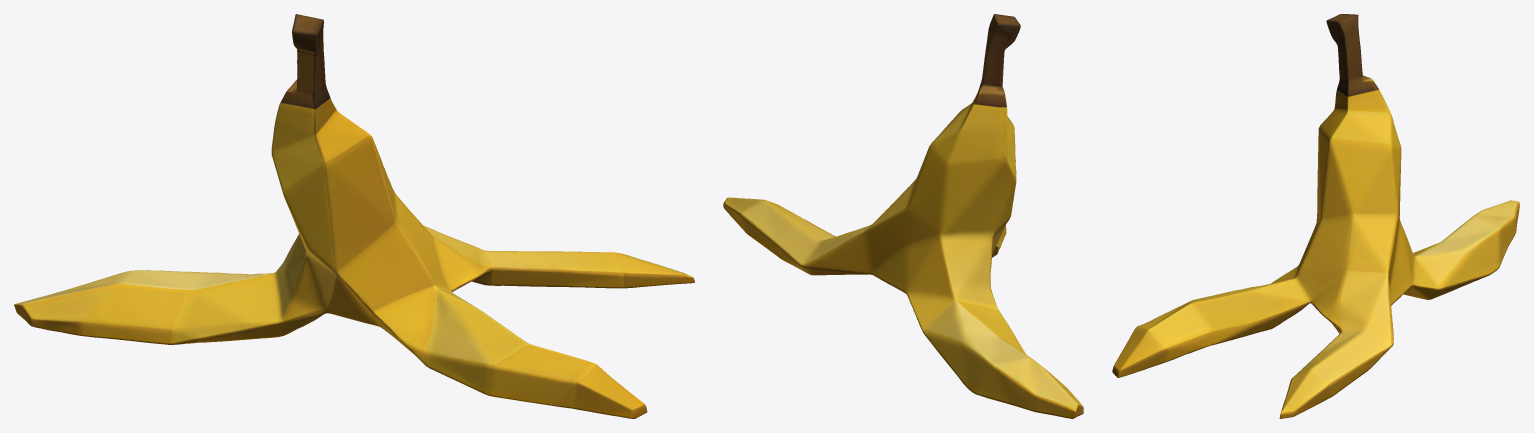
File: tripo_convert_098020bf-a3b7-4596-97b0-e9e48c1a1fbd.fbx
3 views of the same model, side by side, from view 1: azimuth 30°, elevation 25°; view 2: azimuth 150°, elevation 25°; view 3: azimuth 270°, elevation 25° (orthographic). The views are drawn at different scales.
Visible parts, largest first — view 1: tripo_node_098020bf; view 2: tripo_node_098020bf; view 3: tripo_node_098020bf.
Boxes of the visible parts, bbox=[...] form: tripo_node_098020bf: bbox=[14, 14, 694, 418]; tripo_node_098020bf: bbox=[723, 14, 1083, 418]; tripo_node_098020bf: bbox=[1112, 14, 1519, 418].
Size of the model in its own units: 98.3 by 78.64 by 59.99.
Materials: 1 (1 with a texture image).
